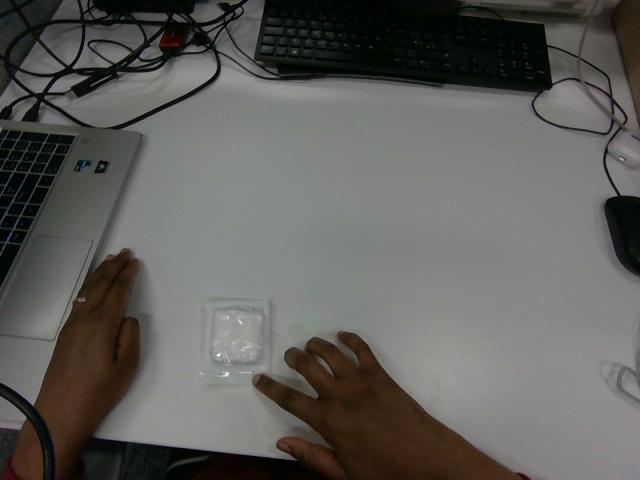gauze: (199, 299, 269, 384)
